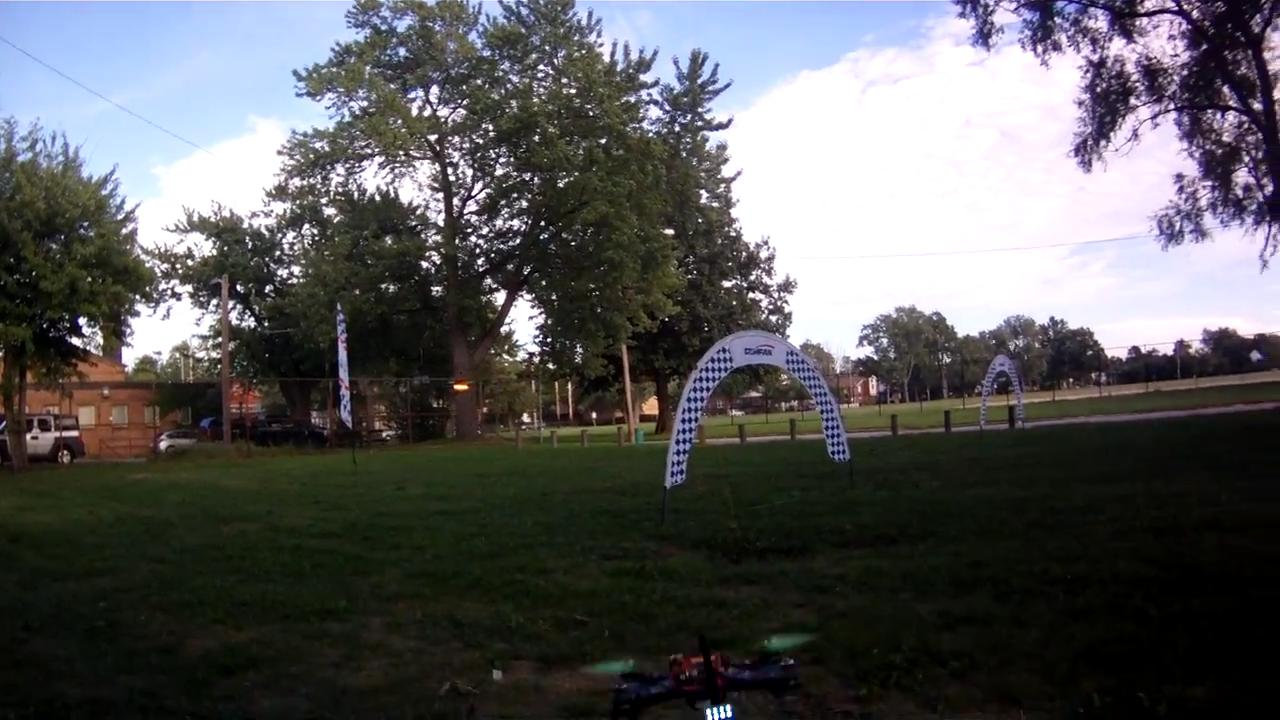gate: (661, 326, 851, 491)
